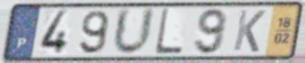4: (37, 8, 71, 57)
9: (192, 7, 228, 56), (78, 10, 112, 56)
K: (231, 8, 268, 54)
L: (153, 7, 185, 57)
U: (110, 7, 157, 58)
